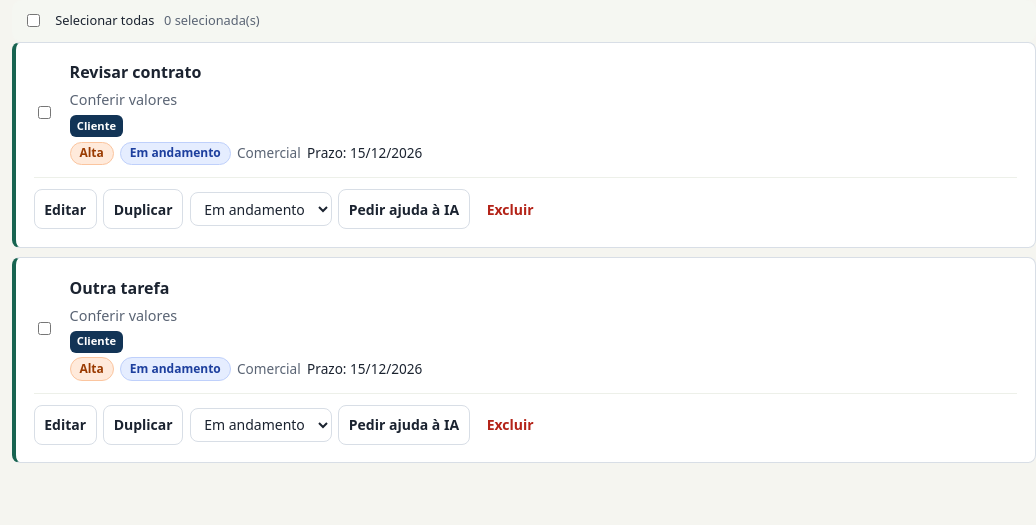
batch completion reports partial failure and keeps failed task selected
The width and height of the screenshot is (1036, 525).
What coordinates should you click on to do the following:
click the checkbox named "Selecionar todas as tarefas exibidas"
I would click on:
 (34, 21)
Its box is [27,14,40,27].
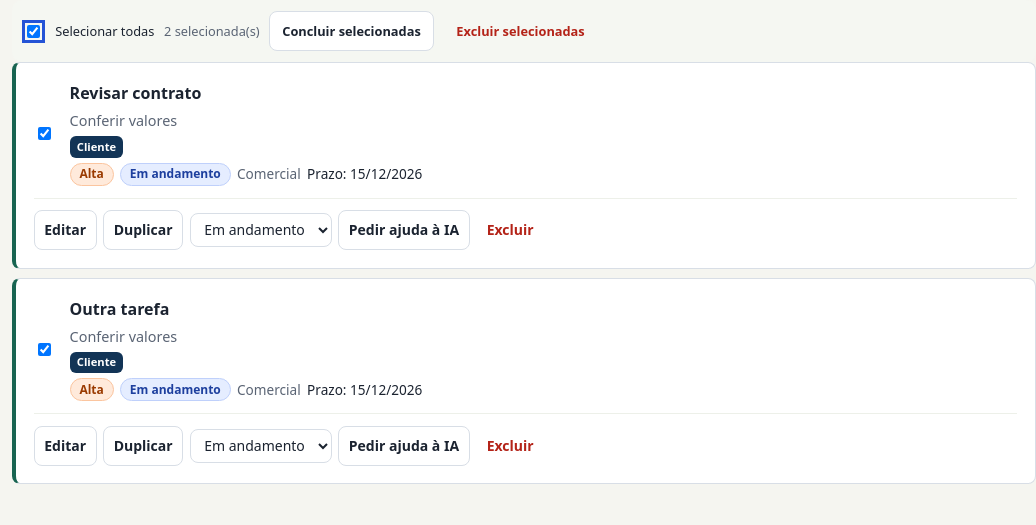
What coordinates should you click on to do the following:
click the button "Concluir selecionadas"
I would click on:
 (351, 31)
Its box is [269,11,434,51].
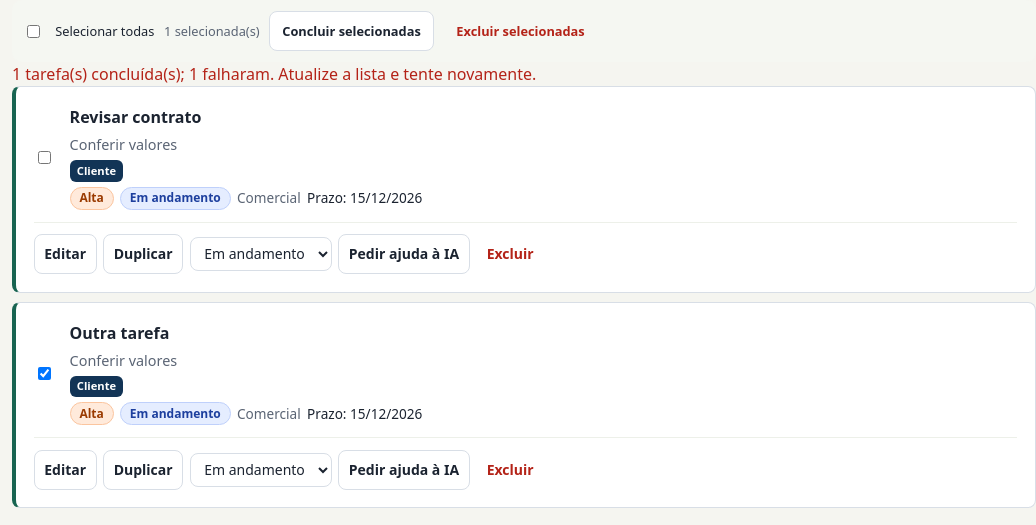
Expected: the checkbox named "Selecionar Outra tarefa" is checked, [38,367,51,380]
Expected: the message shows "1 falharam", [12,63,536,85]
Expected: the checkbox named "Selecionar Revisar contrato" is not checked, [38,151,51,164]
